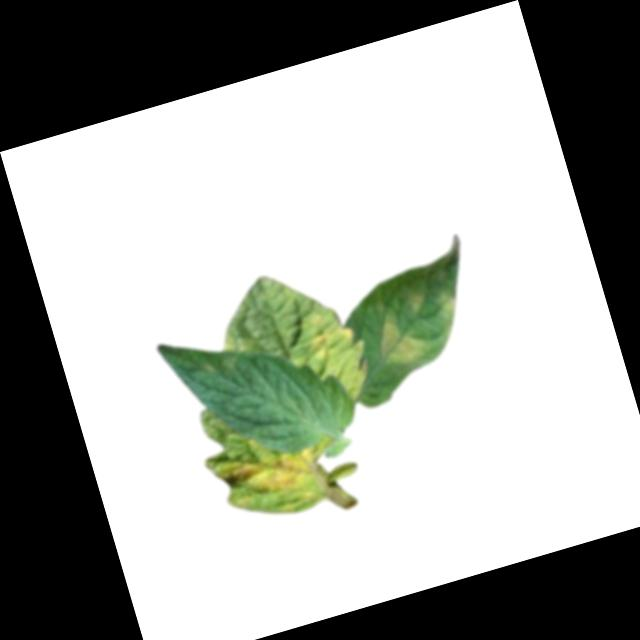Leaf_Mold: (203, 415, 354, 532), (366, 295, 431, 368), (298, 300, 362, 364)
